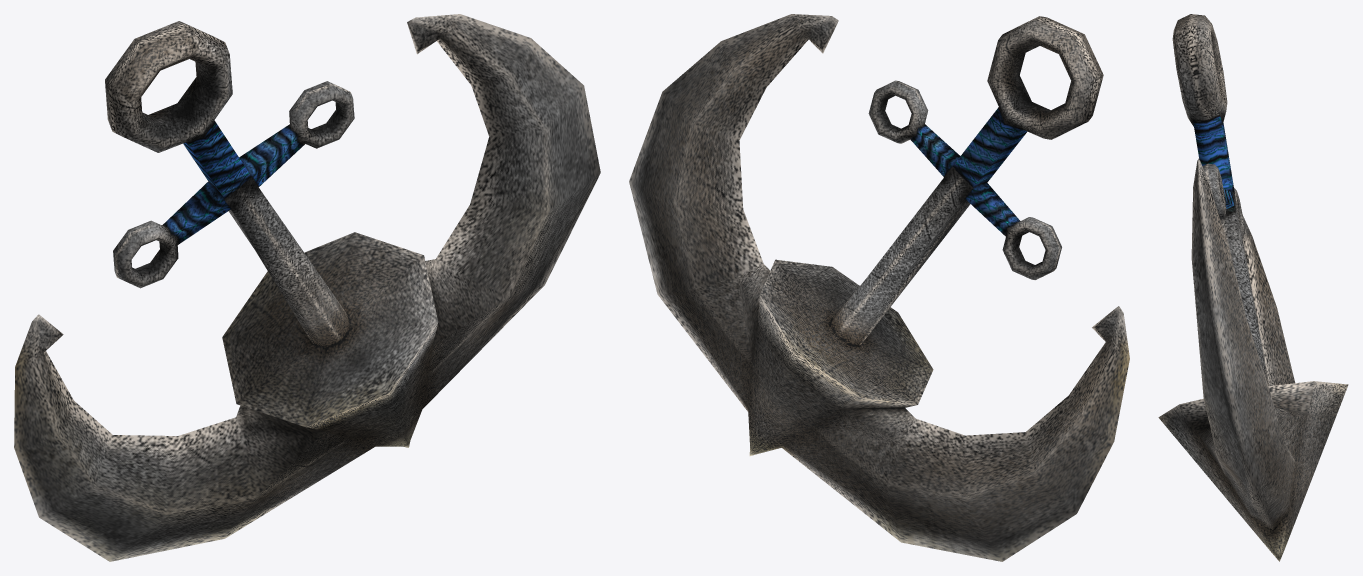
File: BACK_CHIBI_ANCHOR.fbx
3 renders of one model, left to right at view 1: azimuth 30°, elevation 25°; view 2: azimuth 150°, elevation 25°; view 3: azimuth 270°, elevation 25°, orthographic. The views are drawn at different scales.
Parts seen in each view (by area): view 1: BACK_CHIBI_ANCHOR; view 2: BACK_CHIBI_ANCHOR; view 3: BACK_CHIBI_ANCHOR.
Part boxes in pixels (x1,y1,x2,y2): BACK_CHIBI_ANCHOR: (14, 14, 600, 561); BACK_CHIBI_ANCHOR: (629, 14, 1129, 561); BACK_CHIBI_ANCHOR: (1158, 14, 1348, 561).
Bounding box in the file's own units: 0.0546 × 0.0524 × 0.0193.
